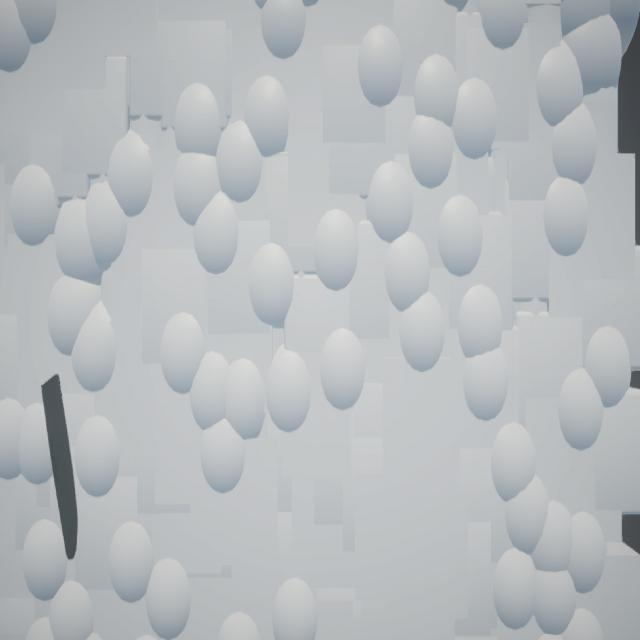top_knife: (42, 376, 79, 562)
